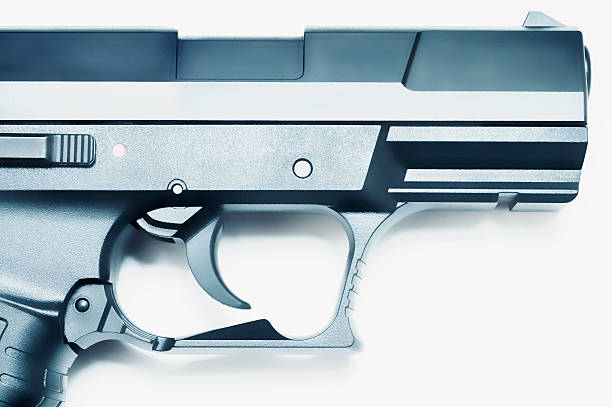pistol: (1, 9, 590, 406)
